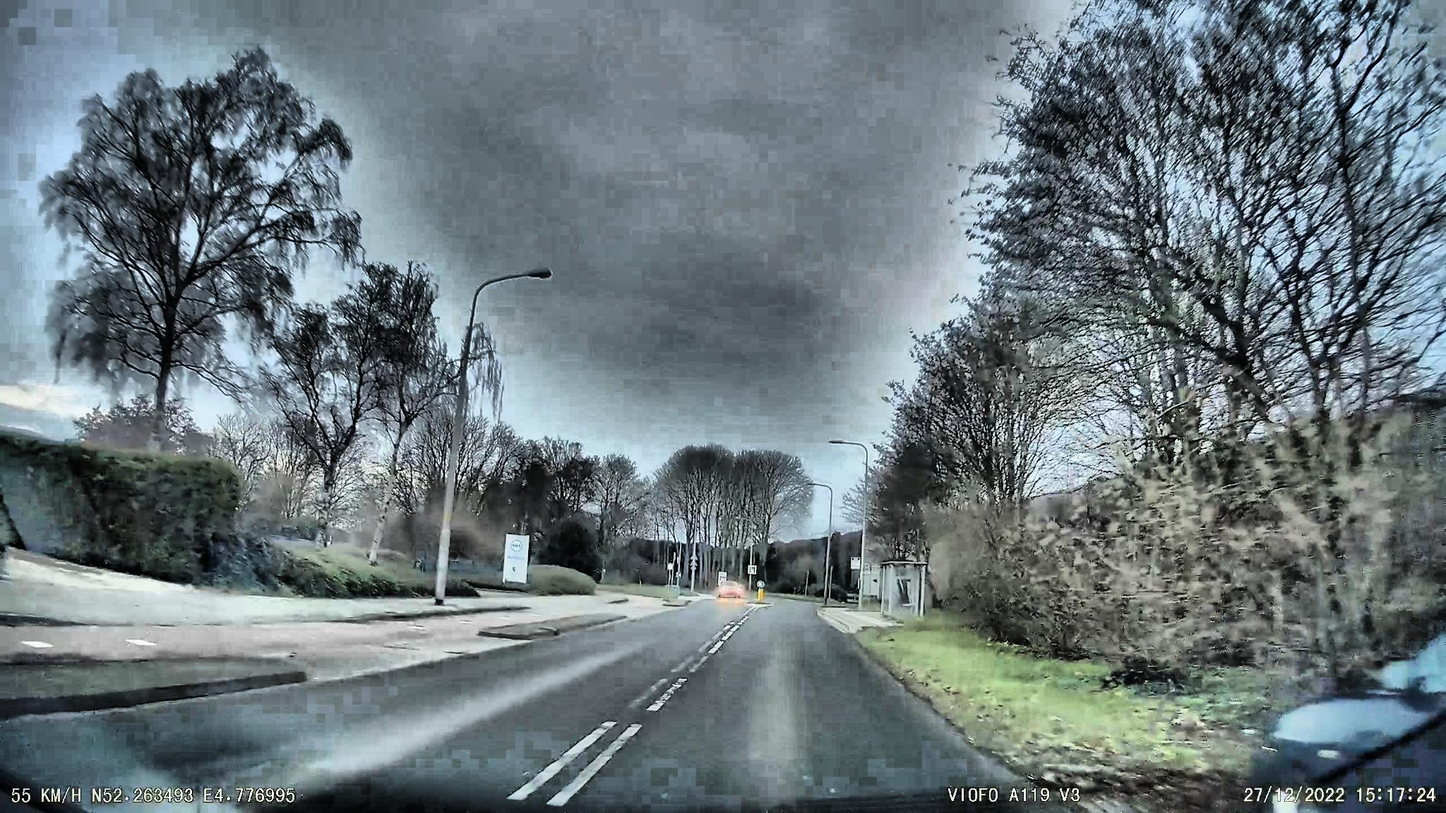Roads: (0, 603, 1079, 813)
